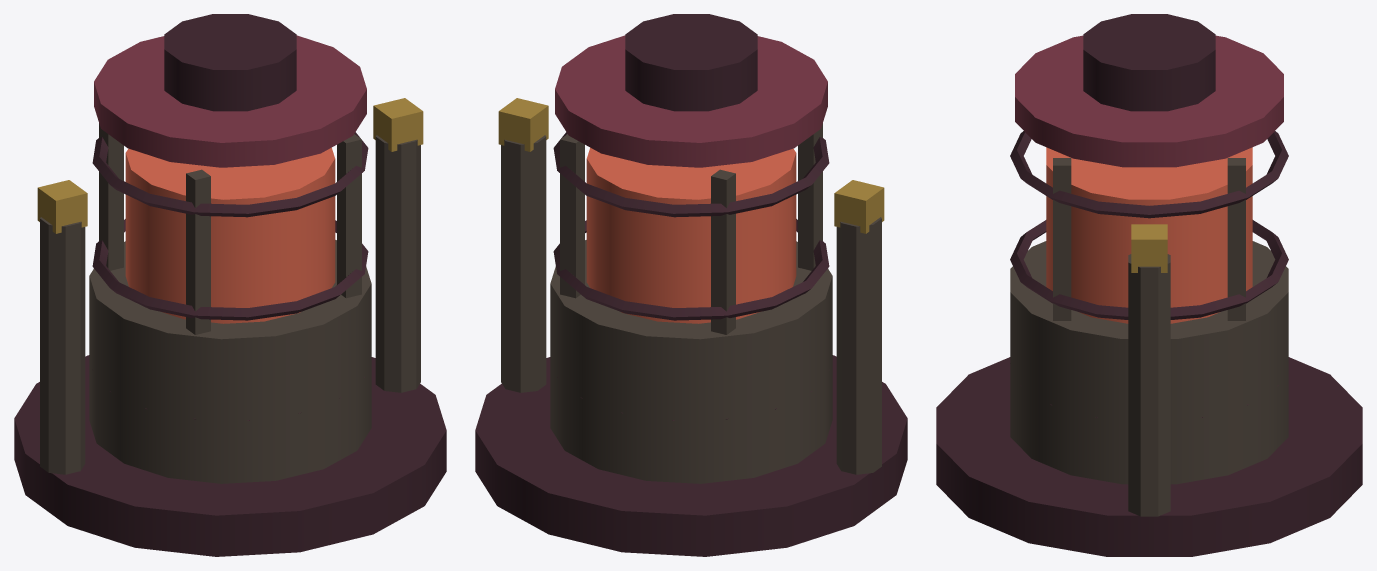
File: criminal_reactor.glb
3 renders of one model, left to right at view 1: azimuth 30°, elevation 25°; view 2: azimuth 150°, elevation 25°; view 3: azimuth 270°, elevation 25°, orthographic.
Visible parts, largest first — view 1: criminal_reactor; view 2: criminal_reactor; view 3: criminal_reactor.
Boxes of the visible parts, x1,y1,x2,y2 form: criminal_reactor: (14, 14, 446, 556); criminal_reactor: (475, 14, 907, 556); criminal_reactor: (936, 14, 1362, 556).
Size of the model in its own units: 1.88 by 2.05 by 1.86.
